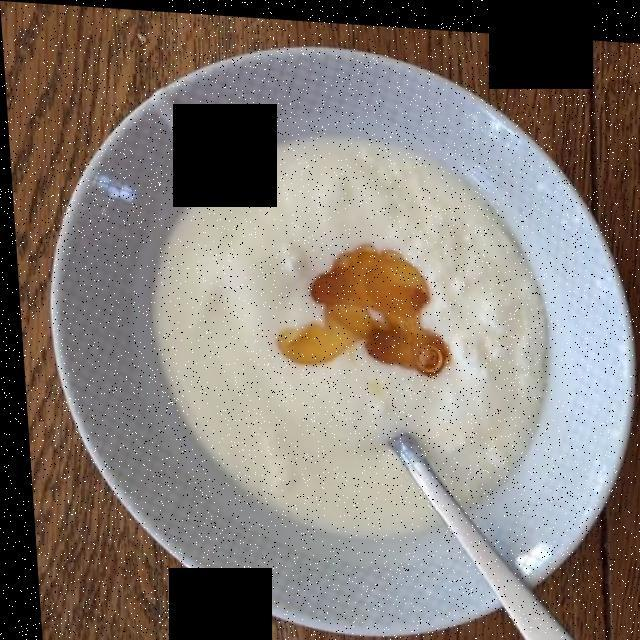honey: (276, 234, 445, 367)
yogurt: (146, 139, 538, 527)
